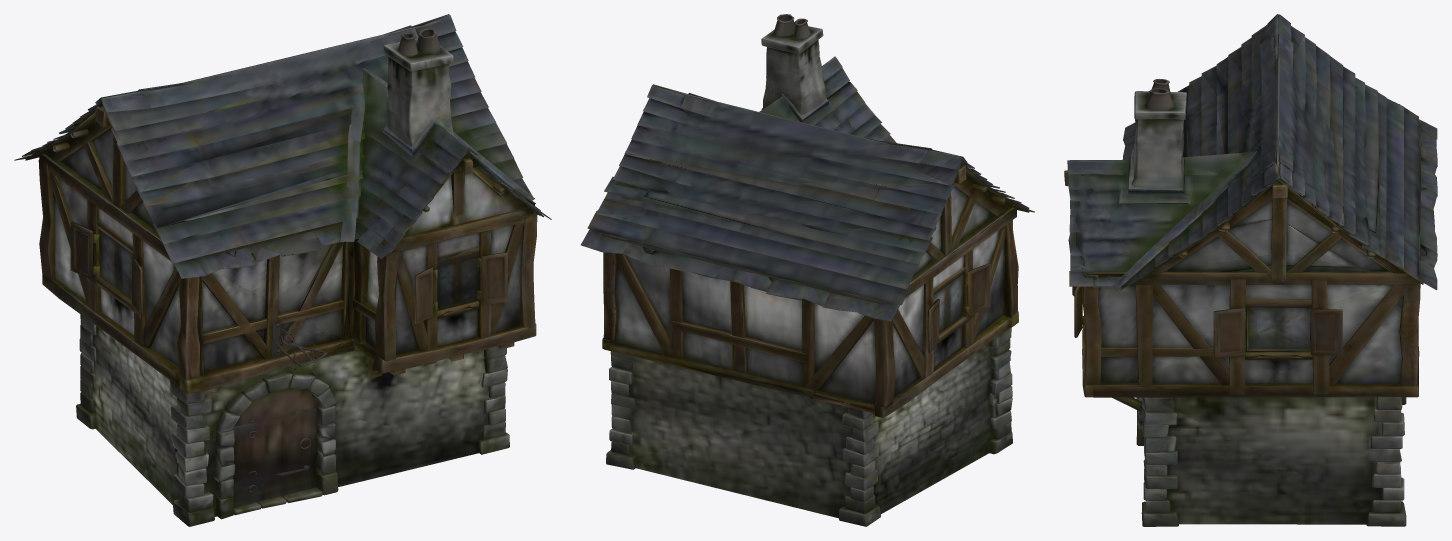
File: townhouse.glb
3 renders of one model, left to right at view 1: azimuth 30°, elevation 25°; view 2: azimuth 150°, elevation 25°; view 3: azimuth 270°, elevation 25°, orthographic. The views are drawn at different scales.
Parts seen in each view (by area): view 1: townhouse_p2; view 2: townhouse_p2; view 3: townhouse_p2.
Part boxes in pixels (box(x1,y1,x2,y2)): townhouse_p2: box(14, 14, 551, 526); townhouse_p2: box(581, 14, 1034, 526); townhouse_p2: box(1064, 14, 1437, 526).
Bounding box in the file's own units: 4.8 × 5.51 × 4.61.
1 material, 1 textured.
